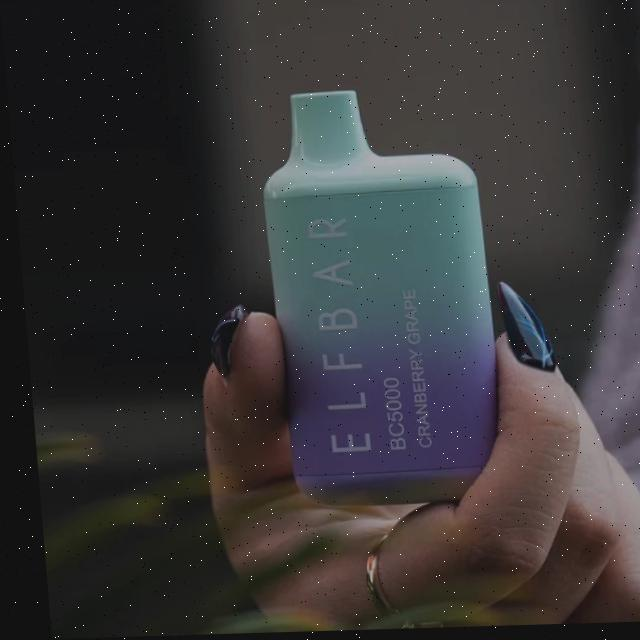vape: (253, 88, 499, 511)
